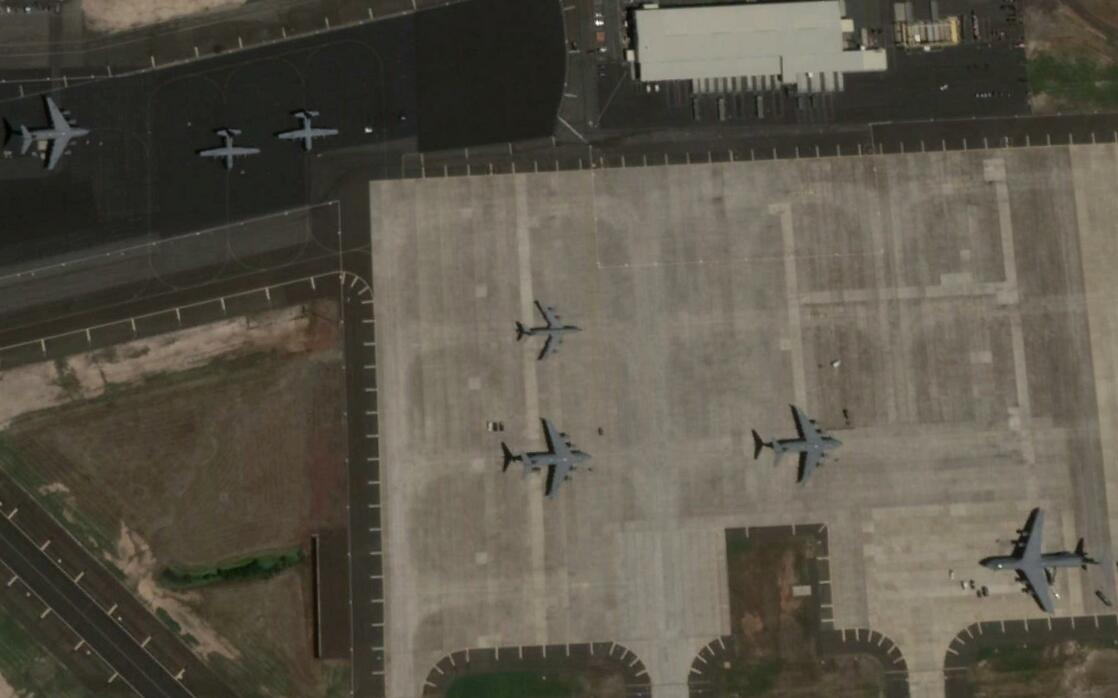A14: (516, 298, 591, 365)
A2: (277, 107, 343, 152), (201, 127, 262, 172)
A3: (512, 419, 599, 503), (768, 407, 848, 485), (22, 96, 92, 175)
A4: (979, 505, 1099, 614)
